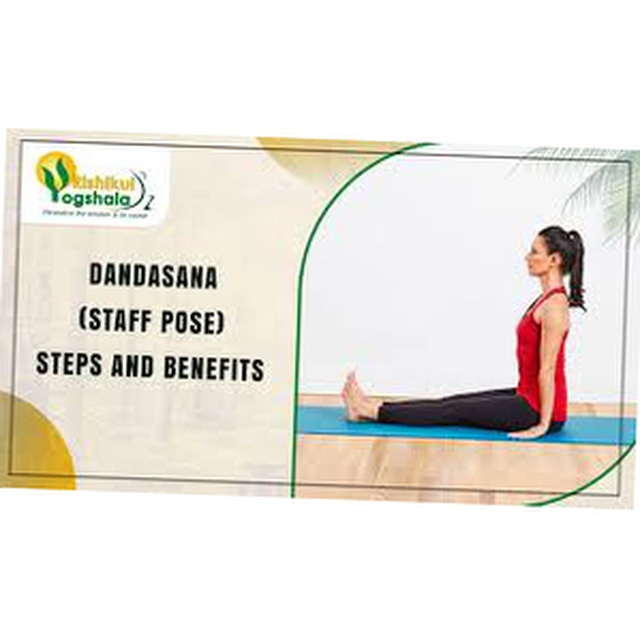Staff_Pose: (340, 224, 589, 442)
